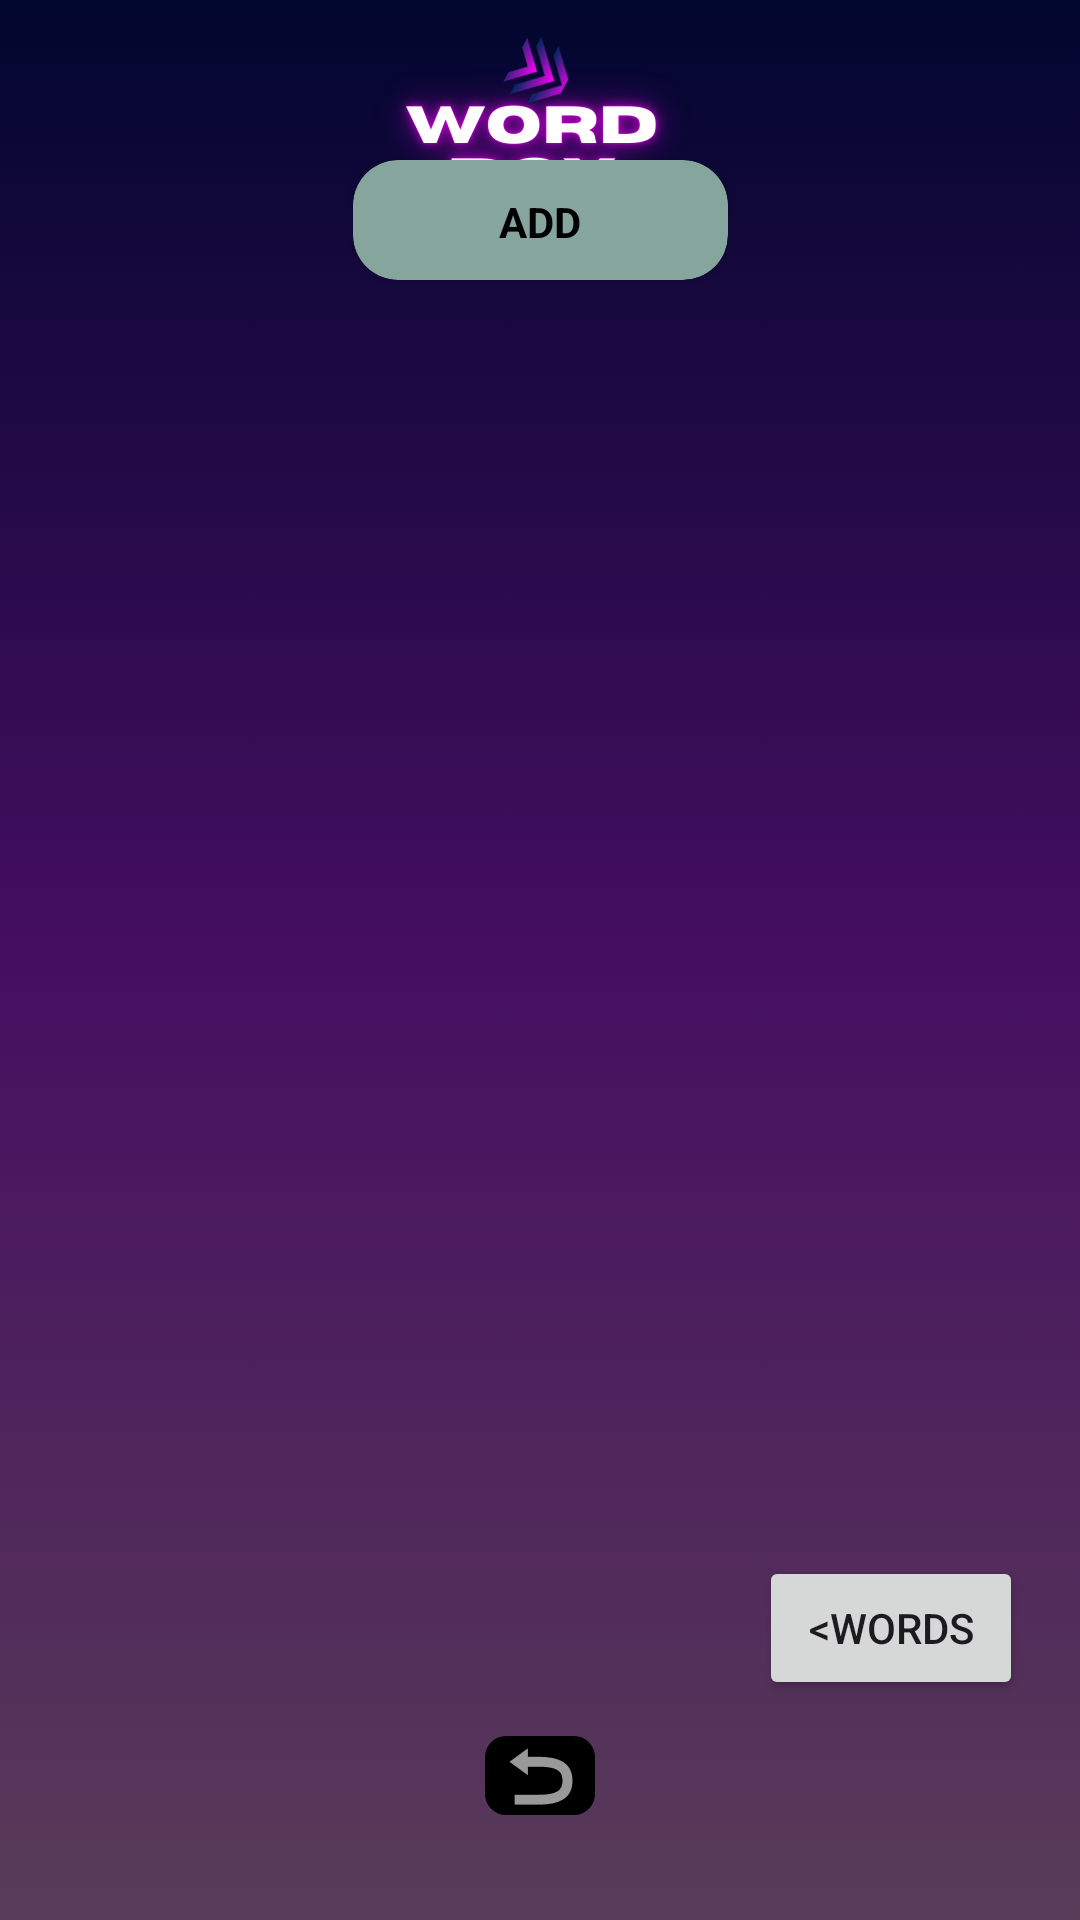

Screen size 1080x1920. Icon name, then its center in pixels as (x=x, y=y):
revert: (x=540, y=1775)
